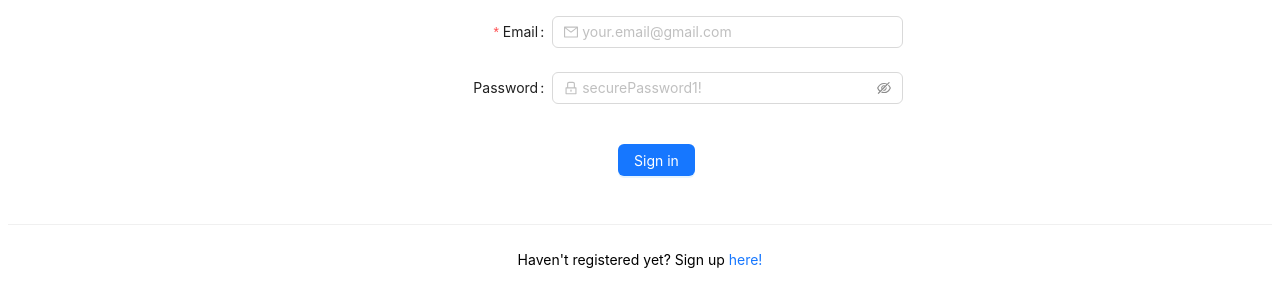
LoginForm - email validation › displays validation message for invalid email format with leading whitespace - " name@gmail.com"
Type " name@gmail.com" into the field with placeholder "your.email@gmail.com". click: x=737, y=32
box: x1=582 y1=21 x2=891 y2=43
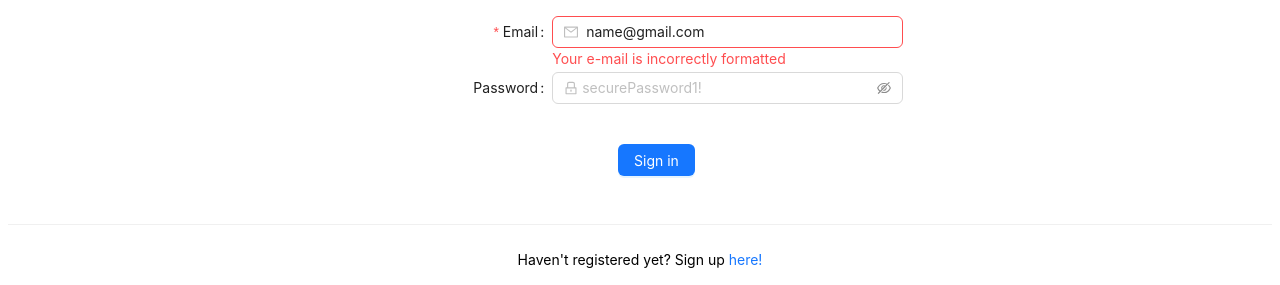
Now the text "Your e-mail is incorrectly formatted" is shown, box x1=552 y1=50 x2=786 y2=67
